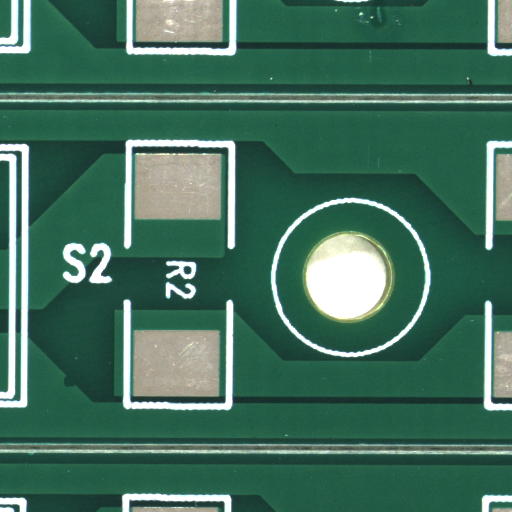Mouse_bite: (69, 381, 82, 392)
